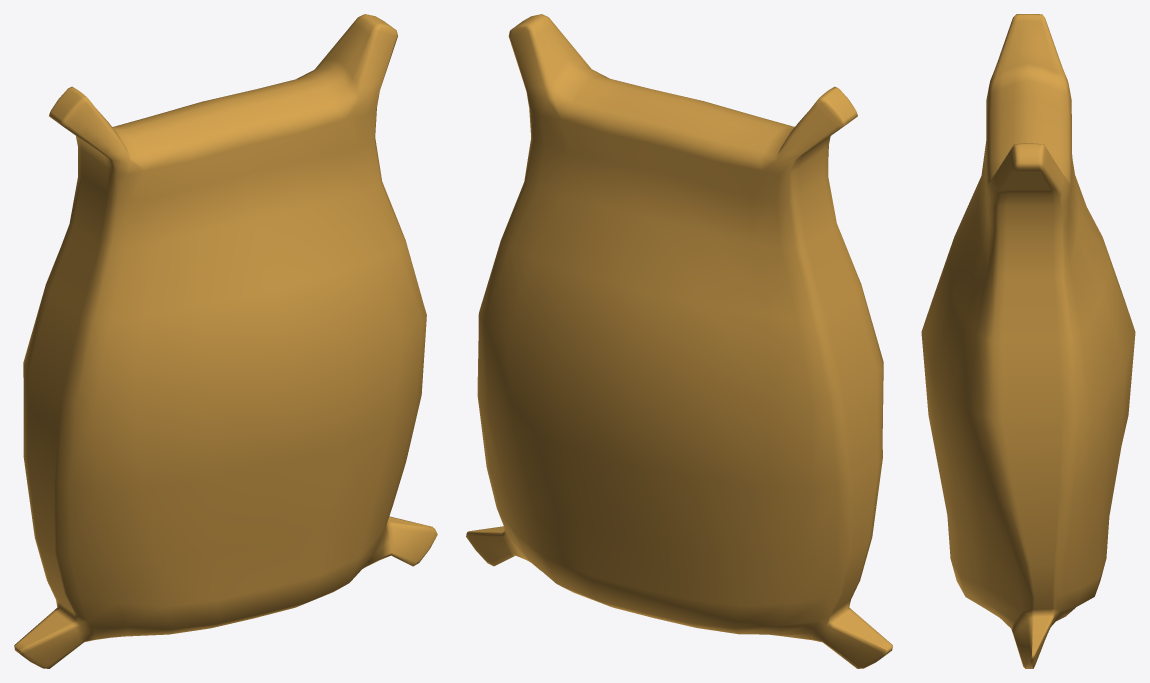
Rendered from Carrot_Sack.fbx.
3 views of the same model, side by side, from view 1: azimuth 30°, elevation 25°; view 2: azimuth 150°, elevation 25°; view 3: azimuth 270°, elevation 25° (orthographic). The views are drawn at different scales.
Parts seen in each view (by area): view 1: Carrot_Sack1; view 2: Carrot_Sack1; view 3: Carrot_Sack1.
Boxes of the visible parts, x1=… form: Carrot_Sack1: x1=14, y1=14, x2=437, y2=668; Carrot_Sack1: x1=466, y1=14, x2=892, y2=668; Carrot_Sack1: x1=921, y1=14, x2=1135, y2=668.
Bounding box in the file's own units: 12.28 × 15.83 × 5.92.
